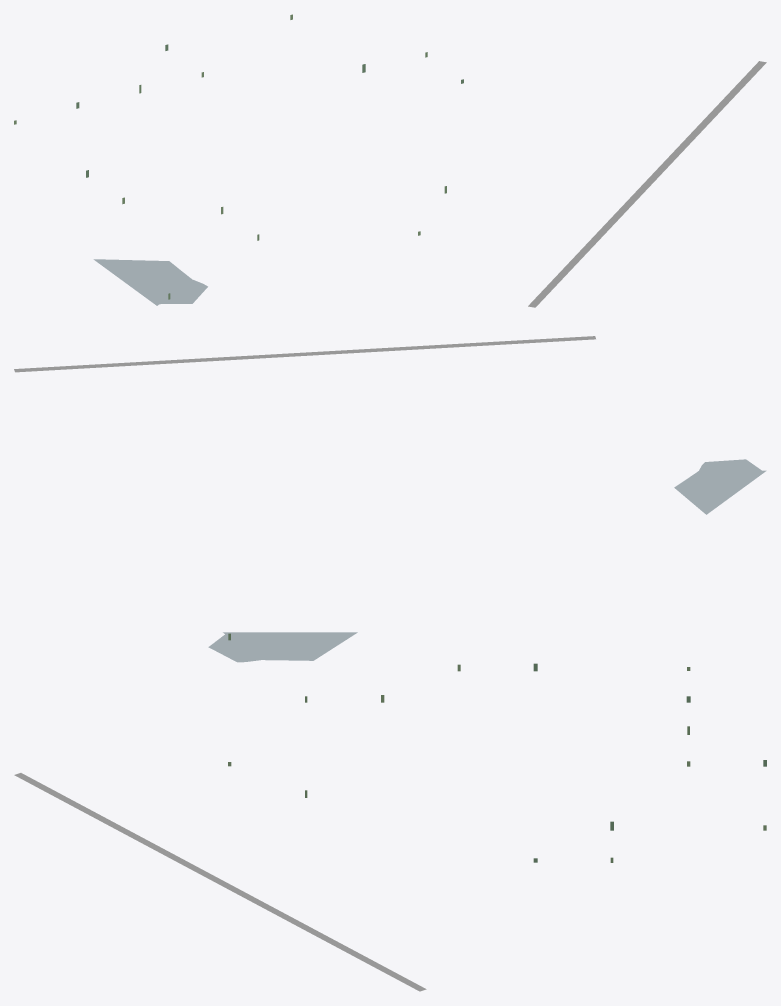
3 views of the same model, one above another, from view 1: azimuth 30°, elevation 25°; view 2: azimuth 150°, elevation 25°; view 3: azimuth 270°, elevation 25° (orthographic). The views are drawn at different scales.
Bounding box in the file's own units: 675 × 10.91 × 591.
